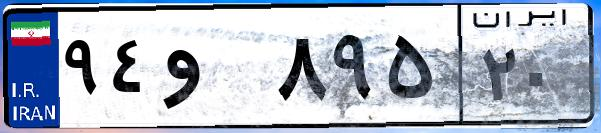0: (525, 38, 570, 115)
2: (475, 38, 525, 113)
4: (110, 28, 158, 98)
5: (385, 28, 445, 110)
8: (270, 28, 330, 110)
9: (330, 28, 385, 110), (57, 26, 110, 100)
و: (158, 20, 270, 120)
